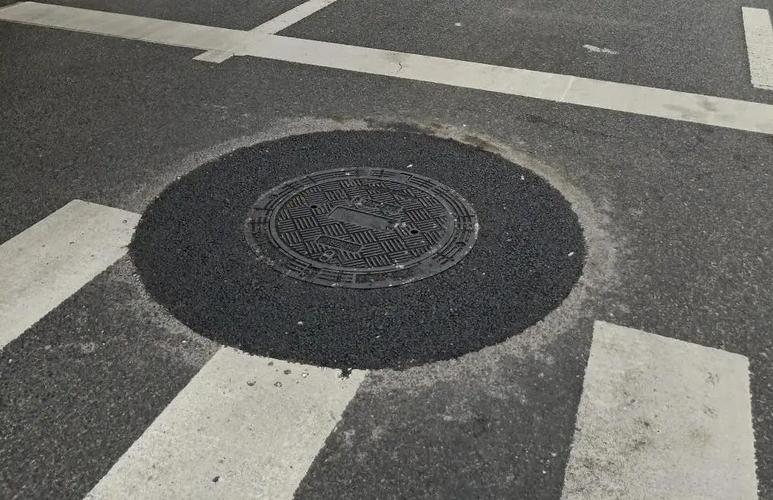good: (127, 101, 615, 388)
